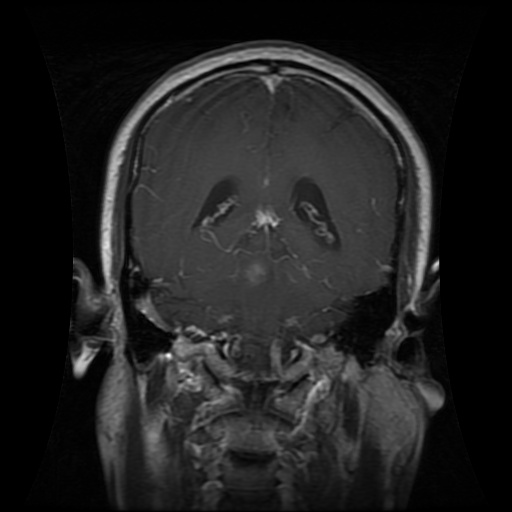glioma: (231, 242, 277, 288)
